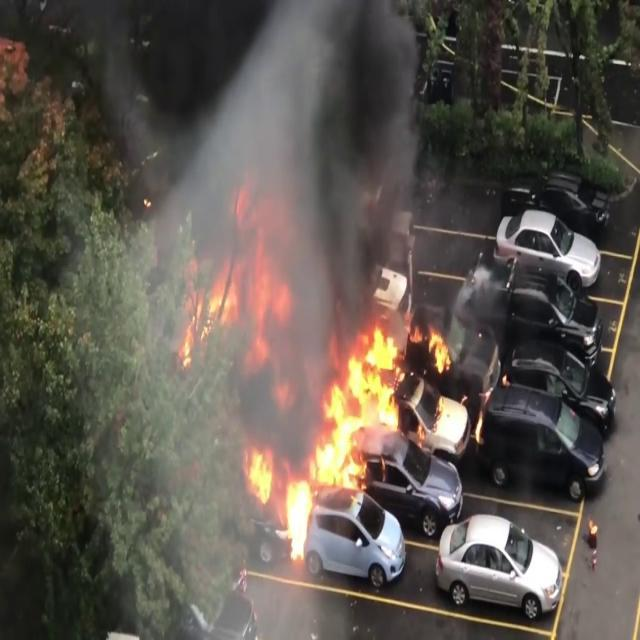Fire: (316, 264, 452, 471), (230, 372, 360, 575)
Smoke: (84, 0, 434, 371)
